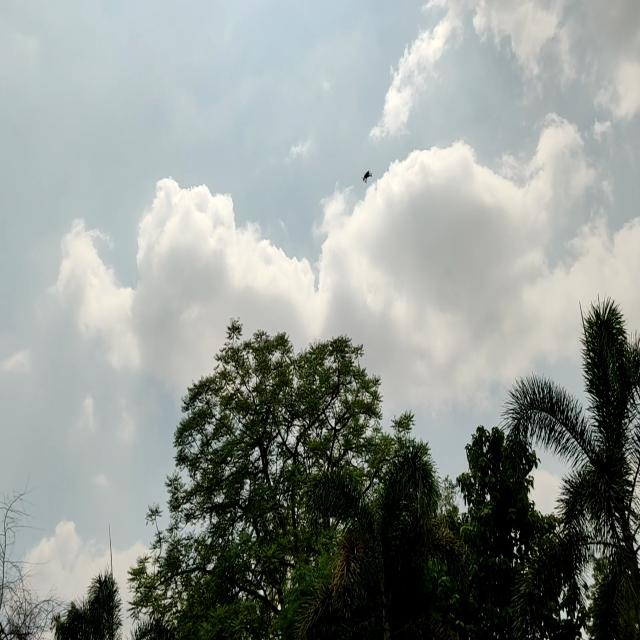drone: (357, 160, 376, 187)
